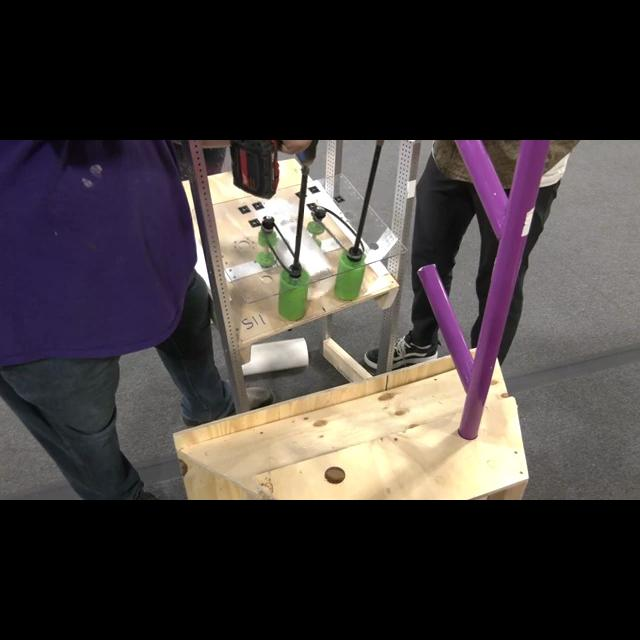CORAL: (239, 336, 309, 376)
